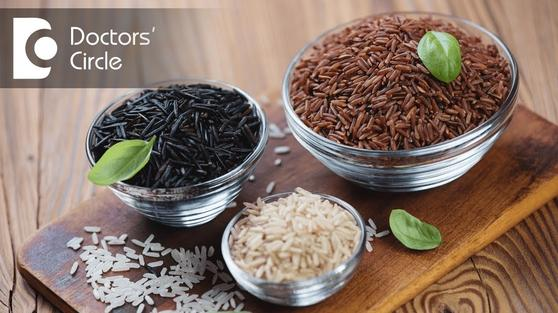rice: (227, 191, 360, 294)
